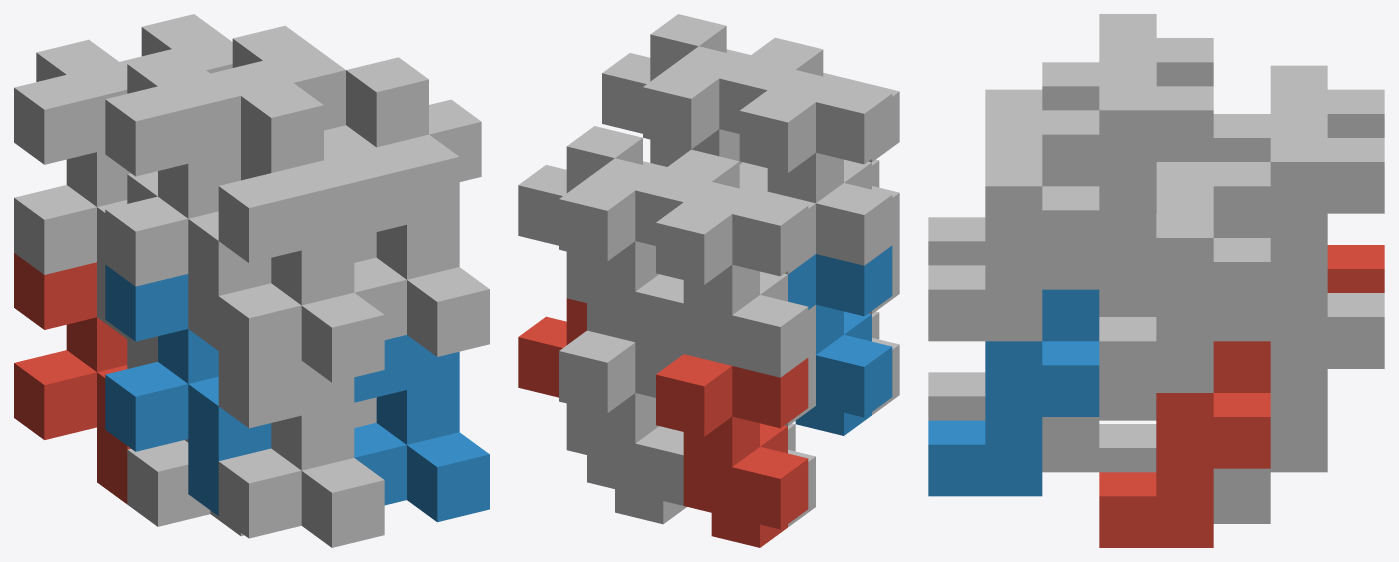
Rendered from tiling.obj.
3 views of the same model, side by side, from view 1: azimuth 30°, elevation 25°; view 2: azimuth 150°, elevation 25°; view 3: azimuth 270°, elevation 25° (orthographic). The views are drawn at different scales.
Parts seen in each view (by area): view 1: copy_2_domain_4, copy_2_domain_8, copy_1_domain_4, copy_2_domain_2, copy_1_domain_3, copy_1_domain_2, copy_2_domain_6, copy_1_domain_1, copy_1_domain_8, copy_2_domain_1, copy_1_domain_7, copy_2_domain_3 (+1 smaller); view 2: copy_1_domain_3, copy_1_domain_1, copy_1_domain_4, copy_1_domain_7, copy_1_domain_5, copy_1_domain_2, copy_1_domain_8, copy_2_domain_7, copy_2_domain_8, copy_2_domain_5, copy_2_domain_4, copy_2_domain_3 (+2 smaller); view 3: copy_2_domain_8, copy_2_domain_7, copy_2_domain_6, copy_2_domain_5, copy_1_domain_8, copy_1_domain_7, copy_1_domain_5, copy_2_domain_4, copy_1_domain_6, copy_1_domain_3, copy_1_domain_4, copy_2_domain_3 (+3 smaller).
Part boxes in pixels (x1,y1,x2,y2): copy_2_domain_4: (218,83,384,382); copy_2_domain_8: (324,57,489,356); copy_1_domain_4: (105,51,271,350); copy_2_domain_2: (218,351,384,547); copy_1_domain_3: (14,39,130,338); copy_1_domain_2: (105,265,271,515); copy_2_domain_6: (354,335,489,522); copy_1_domain_1: (14,253,130,503); copy_1_domain_8: (211,25,376,262); copy_2_domain_1: (127,339,244,536); copy_1_domain_7: (120,14,232,73); copy_2_domain_3: (127,171,157,361); copy_1_domain_3: (656,182,808,377); copy_1_domain_1: (656,354,808,547); copy_1_domain_4: (739,70,892,265); copy_1_domain_7: (559,158,711,353); copy_1_domain_5: (559,330,686,524); copy_1_domain_2: (788,245,892,435); copy_1_domain_8: (643,46,794,191); copy_2_domain_7: (518,126,666,245); copy_2_domain_8: (602,14,750,133); copy_2_domain_5: (518,298,586,397); copy_2_domain_4: (747,37,899,248); copy_2_domain_3: (664,149,815,360); copy_2_domain_8: (928,110,1099,341); copy_2_domain_7: (1099,162,1270,392); copy_2_domain_6: (928,289,1099,496); copy_2_domain_5: (1099,341,1270,547); copy_1_domain_8: (1042,62,1213,289); copy_1_domain_7: (1213,114,1384,341); copy_1_domain_5: (1213,293,1384,523); copy_2_domain_4: (928,62,1099,265); copy_1_domain_6: (1042,265,1156,472); copy_1_domain_3: (1270,65,1384,137); copy_1_domain_4: (1099,14,1213,86); copy_2_domain_3: (1156,114,1270,189).
Bounding box in the file's own units: 6 × 8 × 8.
